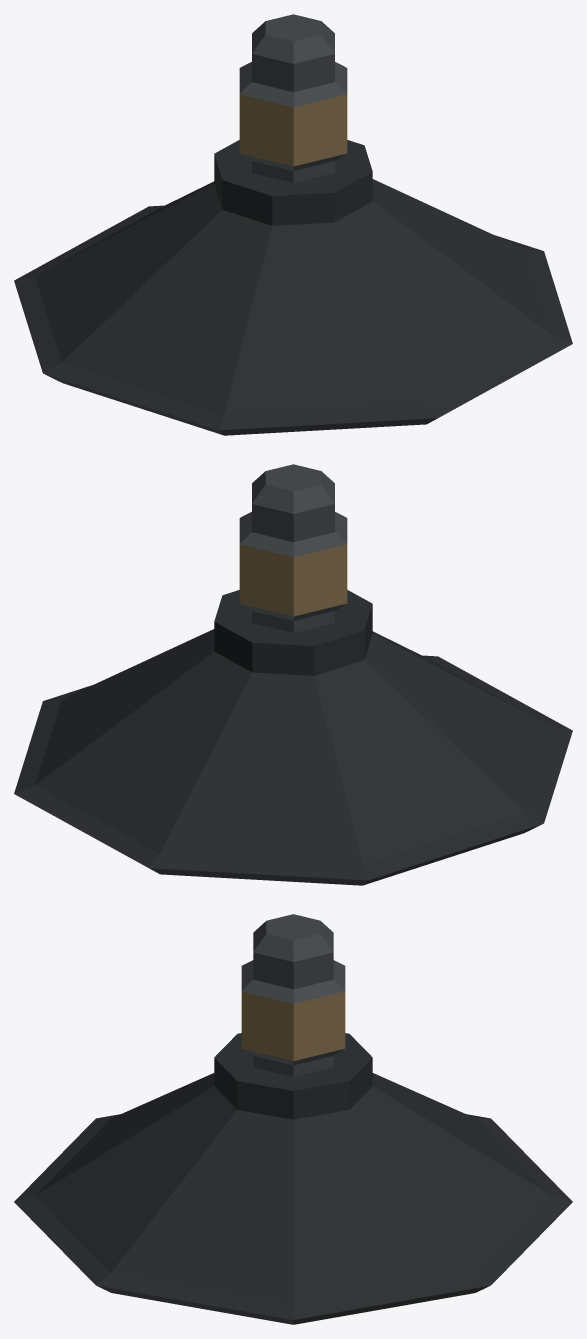
File: SM_Prop_Light_03.002.obj
3 renders of one model, top to bottom at view 1: azimuth 30°, elevation 25°; view 2: azimuth 150°, elevation 25°; view 3: azimuth 270°, elevation 25°, orthographic. The views are drawn at different scales.
Visible parts, largest first — view 1: SM_Prop_Light_03.002_0; view 2: SM_Prop_Light_03.002_0; view 3: SM_Prop_Light_03.002_0.
Part boxes in pixels (<box>): SM_Prop_Light_03.002_0: <box>14,14,572,435</box>; SM_Prop_Light_03.002_0: <box>14,464,572,885</box>; SM_Prop_Light_03.002_0: <box>14,914,572,1324</box>.
Bounding box in the file's own units: 0.5941 × 0.3387 × 0.5941.
Materials: 1 (1 with a texture image).
